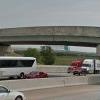Bus: (2, 52, 45, 85)
